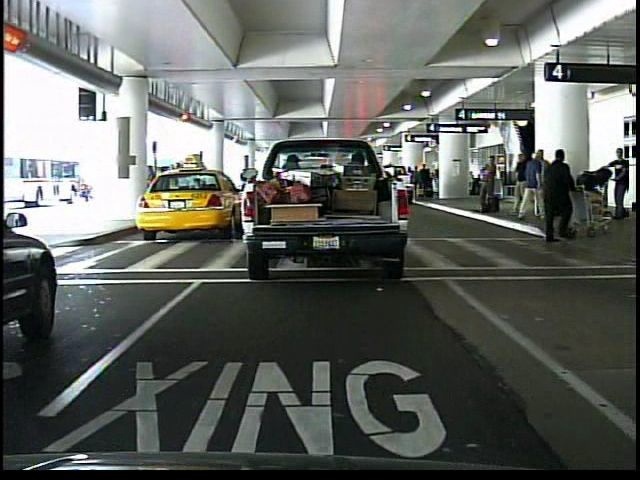person: (535, 149, 580, 244), (607, 144, 635, 222), (519, 146, 545, 225)
